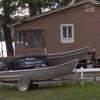Boat: (1, 51, 87, 86)
